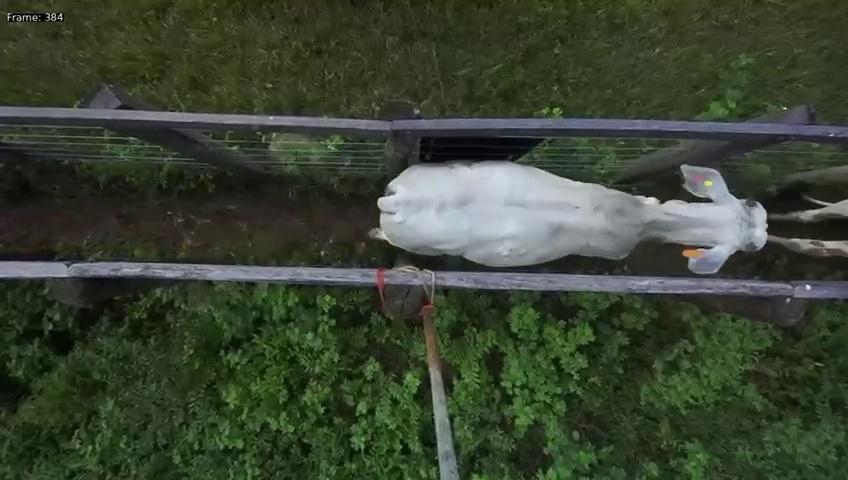cattle: (366, 126, 770, 275)
